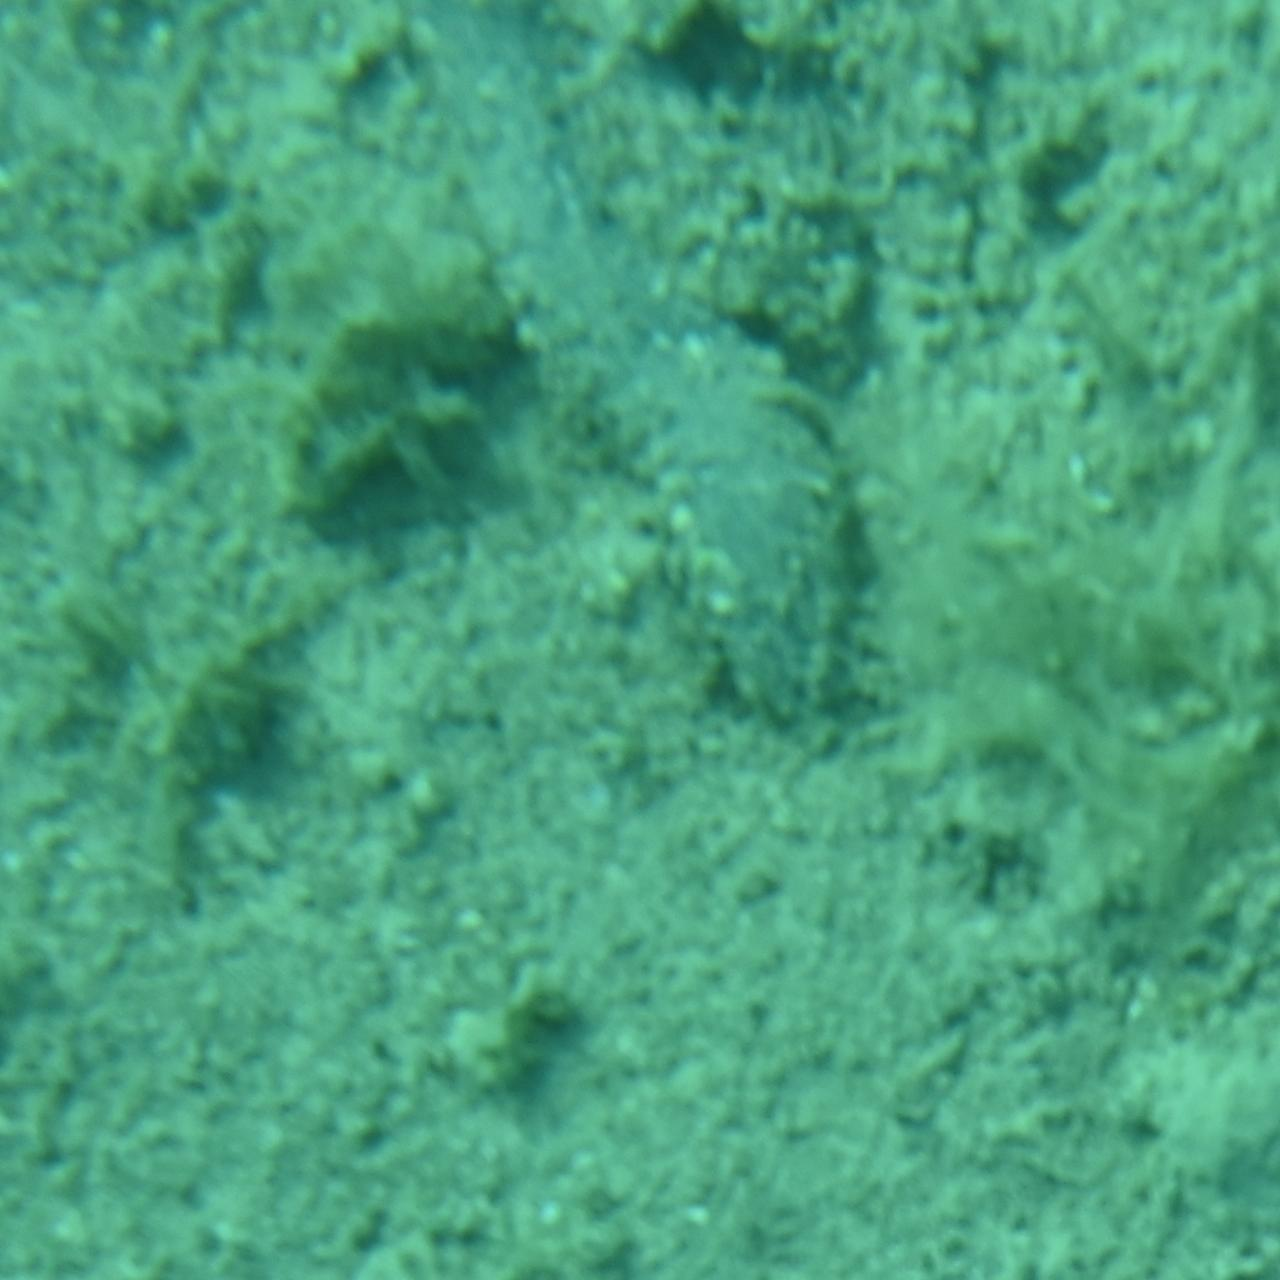Holothuria tubulosa: (395, 0, 885, 760)
